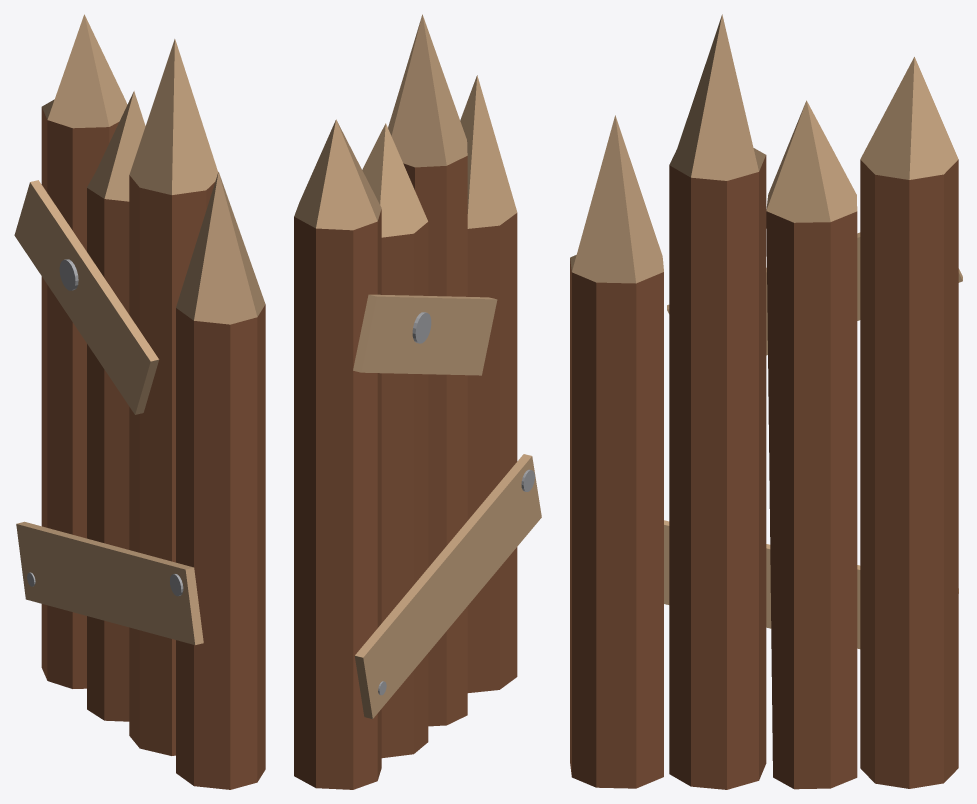
Rendered from Barricada_1.fbx.
3 renders of one model, left to right at view 1: azimuth 30°, elevation 25°; view 2: azimuth 150°, elevation 25°; view 3: azimuth 270°, elevation 25°, orthographic. The views are drawn at different scales.
Parts seen in each view (by area): view 1: Barricade 1, Cube, Cylinder; view 2: Barricade 1, Cube, Cylinder; view 3: Barricade 1, Cube.
Boxes of the visible parts, x1,y1,x2,y2 form: Barricade 1: (41,14,265,789); Cube: (14,180,203,645); Cylinder: (27,259,183,596); Barricade 1: (294,14,517,789); Cube: (353,294,541,718); Cylinder: (378,312,534,695); Barricade 1: (570,14,958,789); Cube: (664,232,962,648).
Size of the model in its own units: 102 by 746 by 351.
